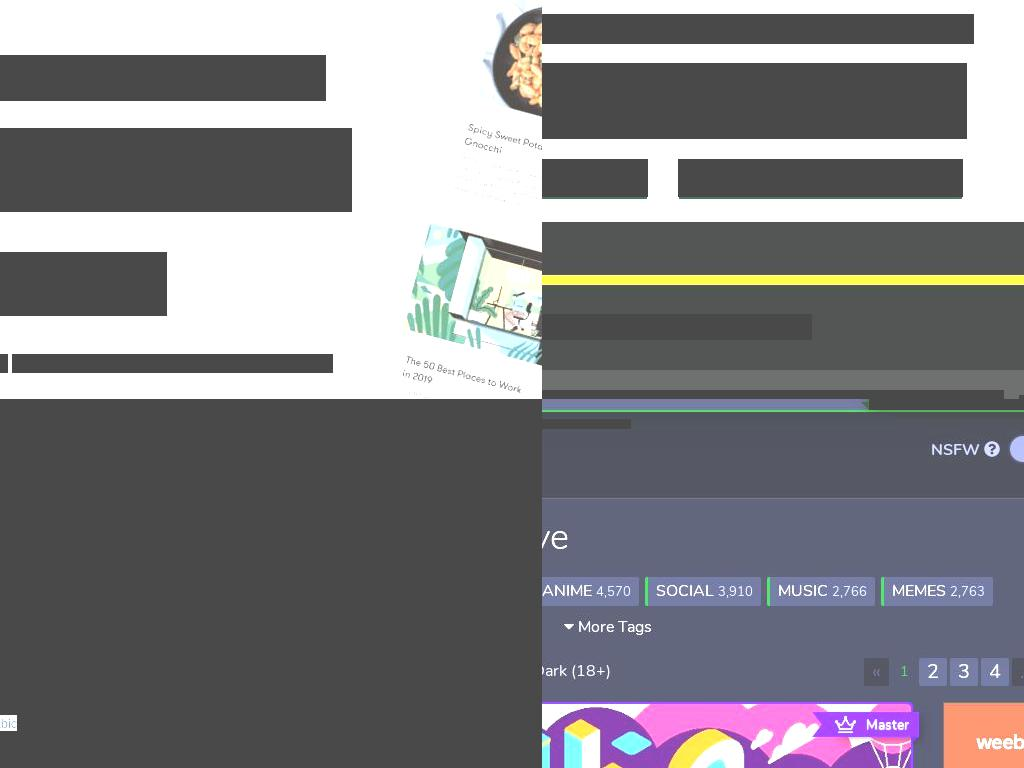button: (678, 159, 963, 197), (0, 252, 167, 316), (542, 315, 812, 340), (0, 505, 133, 546), (0, 561, 133, 602), (542, 450, 637, 507), (542, 517, 637, 574), (542, 584, 637, 641), (542, 651, 637, 708), (542, 718, 637, 768), (655, 725, 805, 754), (542, 159, 648, 197), (542, 399, 637, 440), (542, 648, 627, 692), (799, 614, 924, 643), (778, 688, 903, 717), (653, 688, 772, 717), (645, 577, 761, 606), (679, 614, 793, 643), (881, 577, 993, 606), (767, 577, 875, 606), (809, 651, 917, 680), (542, 725, 649, 754), (811, 725, 917, 754), (542, 688, 647, 717), (923, 651, 1024, 680), (923, 725, 1024, 754), (542, 577, 639, 606), (930, 614, 1024, 643), (711, 651, 803, 680), (582, 614, 673, 643), (617, 651, 705, 680), (542, 651, 611, 680), (909, 688, 977, 717), (834, 716, 909, 733), (542, 614, 576, 643), (610, 762, 765, 768), (919, 658, 947, 686), (950, 658, 978, 686), (981, 658, 1009, 686), (854, 762, 945, 768), (892, 661, 916, 683), (771, 762, 848, 768), (1012, 658, 1024, 686)
field: (188, 531, 449, 564), (188, 587, 449, 620), (542, 424, 680, 478), (396, 627, 449, 658)
heading: (542, 516, 1024, 559), (0, 415, 481, 442), (542, 14, 974, 44)
image: (0, 399, 542, 768), (1008, 434, 1024, 464)
link: (542, 63, 669, 89), (227, 354, 333, 373), (188, 628, 294, 644), (69, 354, 158, 373), (158, 354, 227, 373), (37, 654, 118, 670), (12, 354, 69, 373), (230, 715, 293, 731), (171, 715, 224, 731), (118, 715, 164, 731), (24, 715, 69, 731), (85, 758, 153, 768), (277, 758, 342, 768), (325, 715, 364, 731), (75, 715, 111, 731), (23, 758, 70, 768), (358, 758, 404, 768), (167, 758, 211, 768), (226, 758, 262, 768), (0, 715, 18, 731)
text: (542, 63, 967, 139), (0, 128, 352, 212), (133, 55, 326, 101), (0, 55, 133, 101), (0, 618, 96, 670), (188, 505, 449, 524), (627, 314, 812, 340), (542, 390, 1004, 399), (0, 273, 141, 295), (666, 728, 773, 750), (542, 314, 627, 340), (934, 654, 1024, 676), (934, 728, 1021, 750), (0, 571, 101, 589), (789, 691, 871, 713), (574, 616, 652, 638), (664, 691, 740, 713), (0, 515, 90, 533), (542, 691, 615, 713), (810, 617, 881, 639), (551, 728, 617, 750), (820, 654, 885, 676), (542, 529, 606, 551), (822, 728, 885, 750), (656, 580, 718, 602), (690, 617, 750, 639), (892, 580, 950, 602), (930, 439, 984, 461), (542, 580, 596, 602), (778, 580, 832, 602), (722, 654, 771, 676), (941, 617, 989, 639), (542, 663, 588, 685), (628, 654, 673, 676), (542, 730, 584, 752), (542, 462, 583, 484), (542, 419, 631, 429), (542, 486, 631, 496), (542, 553, 631, 563), (542, 620, 631, 630), (542, 687, 631, 697), (542, 754, 631, 764), (542, 596, 579, 618), (593, 617, 630, 639), (542, 399, 578, 417), (866, 717, 909, 732), (596, 583, 631, 601), (718, 583, 753, 601), (832, 583, 867, 601), (950, 583, 985, 601), (630, 620, 665, 638), (750, 620, 785, 638), (881, 620, 916, 638), (989, 620, 1024, 638), (568, 657, 603, 675), (542, 654, 568, 676), (920, 691, 945, 713), (293, 715, 327, 731), (8, 654, 38, 670), (542, 620, 568, 638), (673, 657, 697, 675), (771, 657, 795, 675), (885, 657, 909, 675), (615, 694, 639, 712), (740, 694, 764, 712), (871, 694, 895, 712), (945, 694, 969, 712), (617, 731, 641, 749), (773, 731, 797, 749), (885, 731, 909, 749), (17, 715, 26, 731), (111, 715, 120, 731), (223, 715, 232, 731), (68, 715, 76, 731), (164, 715, 172, 731), (117, 654, 122, 670)
